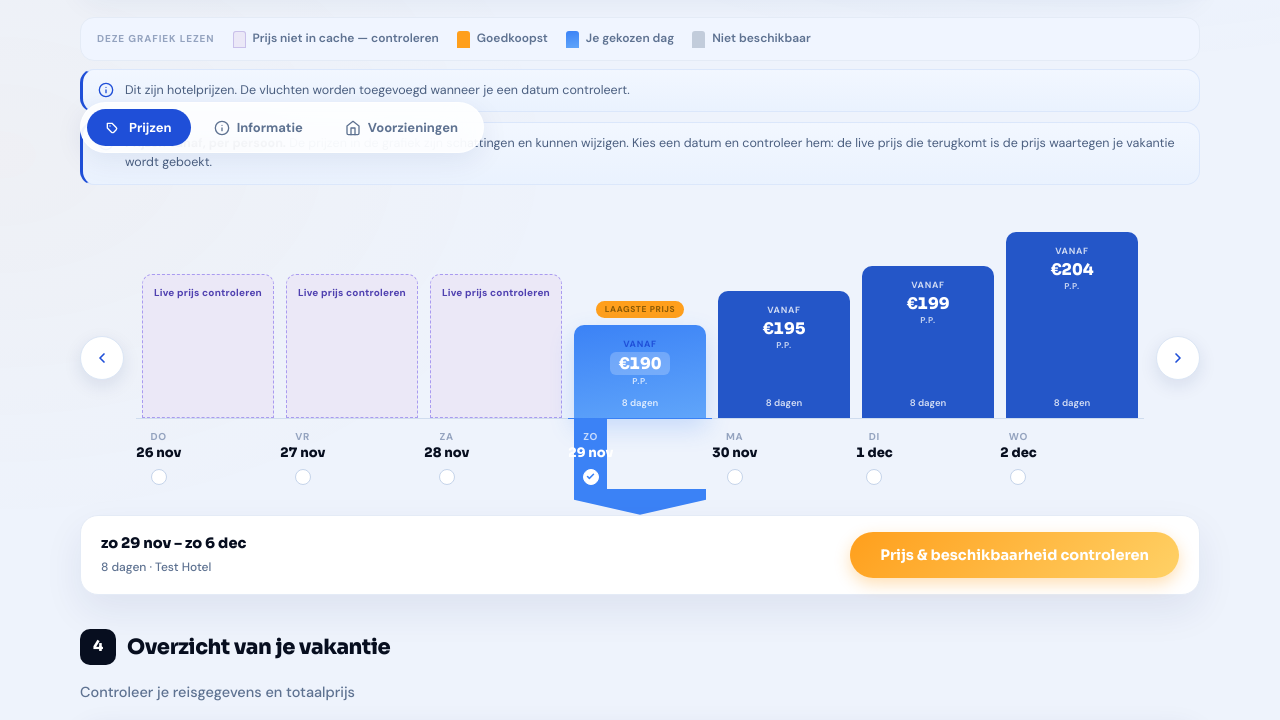
the availability card spells the trip out › names the departure, return, airport, board and transfer
The image size is (1280, 720).
(page scrolled)
Click the button "Laagste prijs vanaf €190 p.p. 8 dagen zo 29 nov": (640, 361) [568,207,712,515]
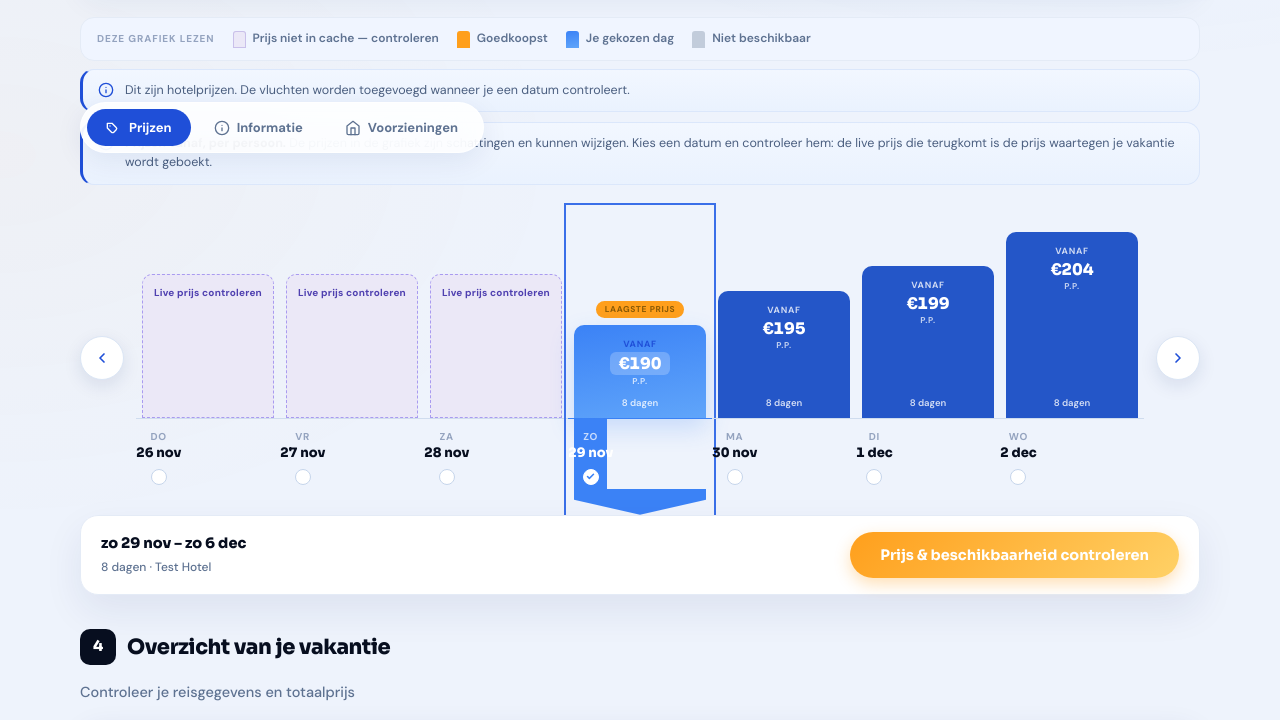
Click the button "Prijs & beschikbaarheid controleren": (1015, 555) [850,532,1179,578]
(page scrolled)
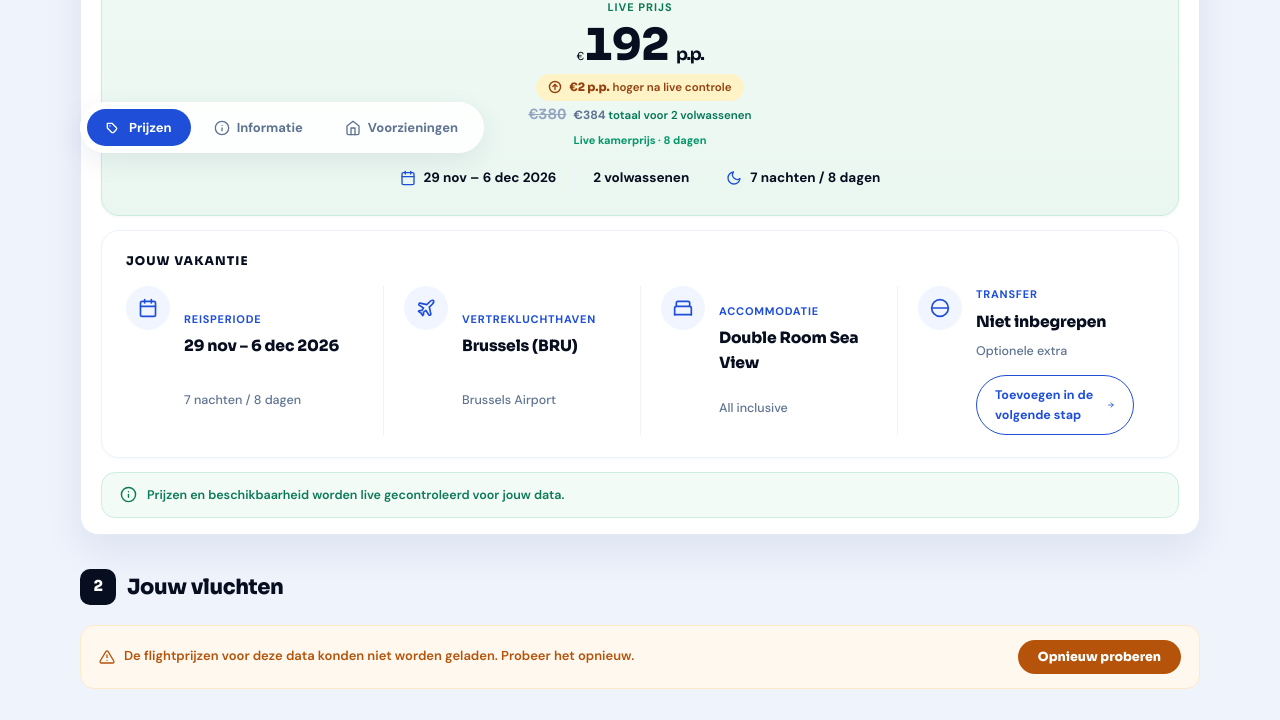
Expected: the element with class "fc-facts" is shown, [101,230,1179,458]
Expected: the element with class "fcu-item" that starts with "Reisperiode" is shown, [126,286,339,408]
Expected: the element with class "fcu-item" shows "29", [184,336,339,356]
